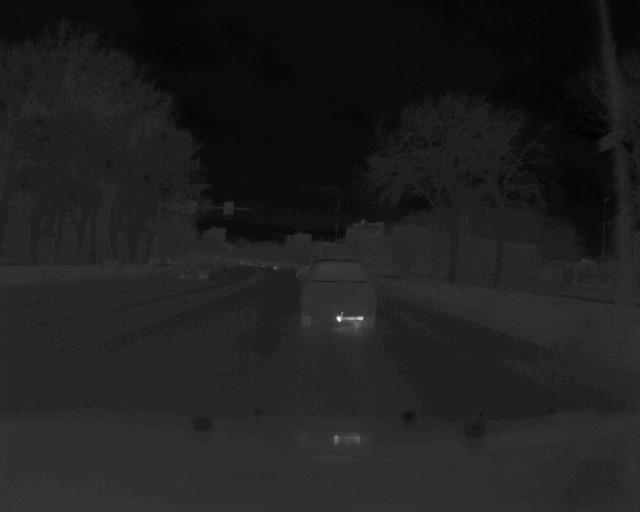car: (298, 252, 379, 333)
